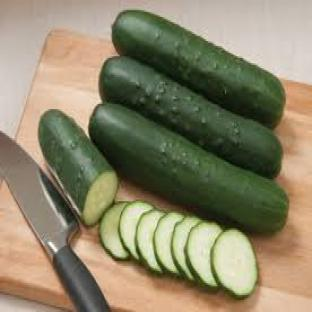Cucumber: (90, 104, 288, 231), (100, 57, 282, 177), (112, 11, 284, 127), (39, 110, 117, 225), (212, 229, 257, 298), (185, 222, 221, 288), (119, 202, 153, 259), (171, 217, 200, 281), (154, 212, 183, 274), (136, 210, 163, 274), (100, 202, 128, 259)
